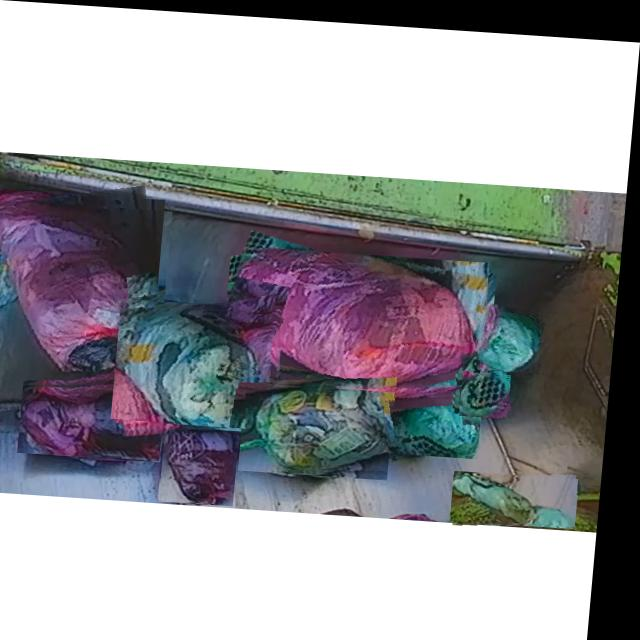general_trashbag: (238, 245, 487, 387), (0, 201, 168, 385), (30, 392, 169, 457), (173, 425, 245, 501)
other_trashbag: (124, 305, 278, 424), (253, 383, 397, 467), (462, 469, 584, 518), (392, 389, 487, 450), (483, 301, 547, 364), (467, 367, 514, 410)
